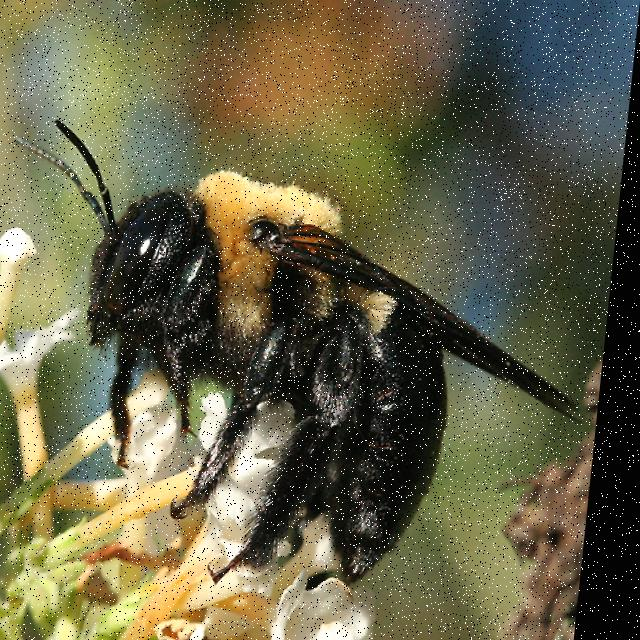Xylocopa: (0, 106, 624, 582)
